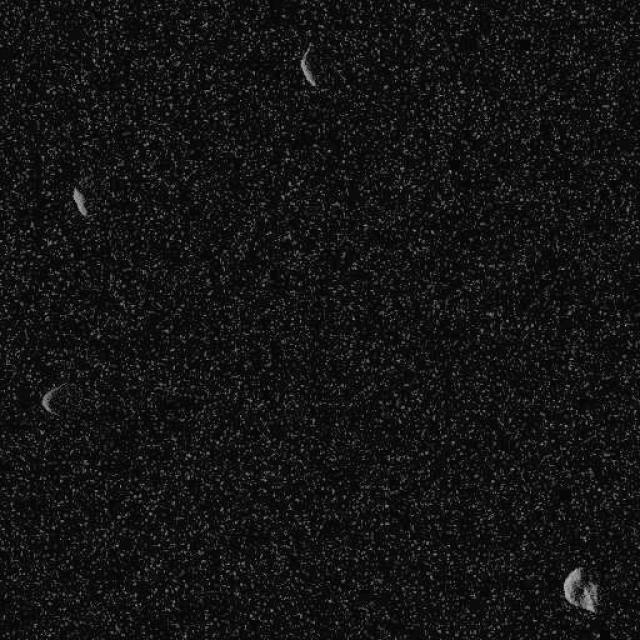D2: (561, 565, 599, 614), (40, 380, 68, 418), (299, 42, 319, 88), (70, 185, 89, 217)
